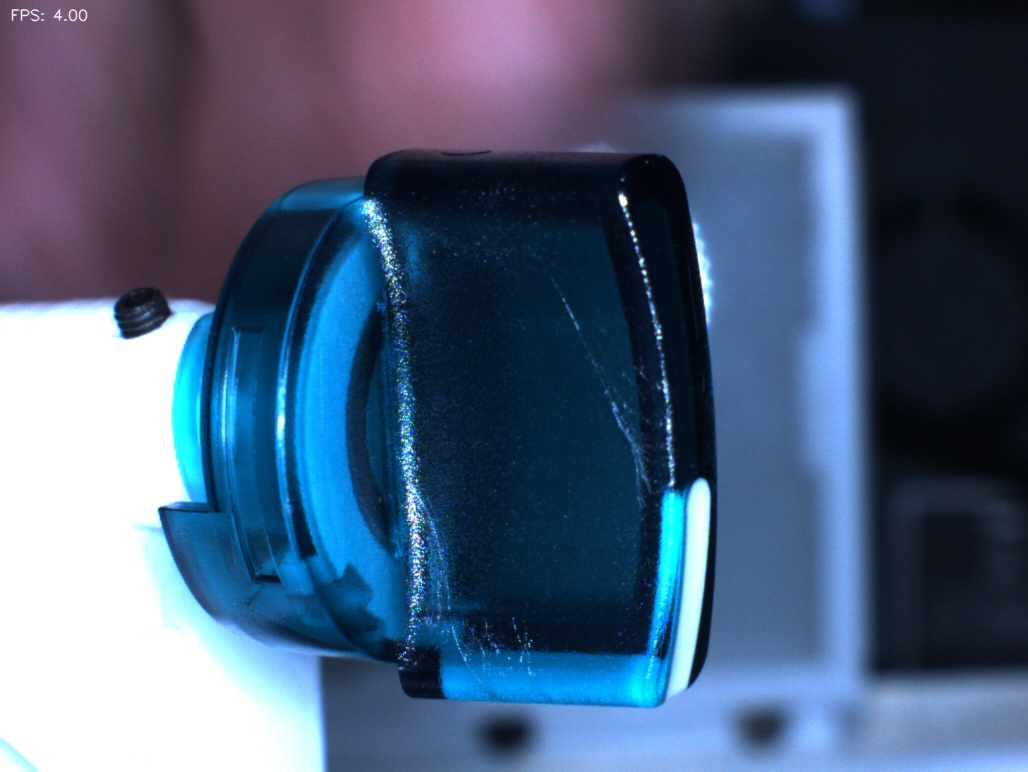Givrage: (564, 312, 677, 488)
